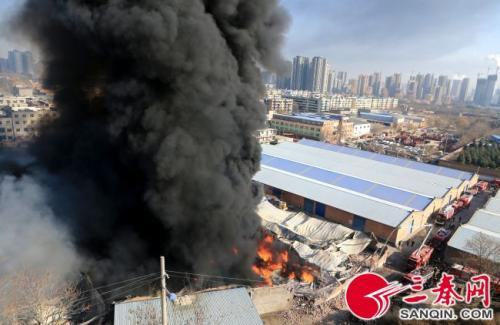fire: (255, 239, 314, 290)
smoke: (24, 7, 263, 269)
